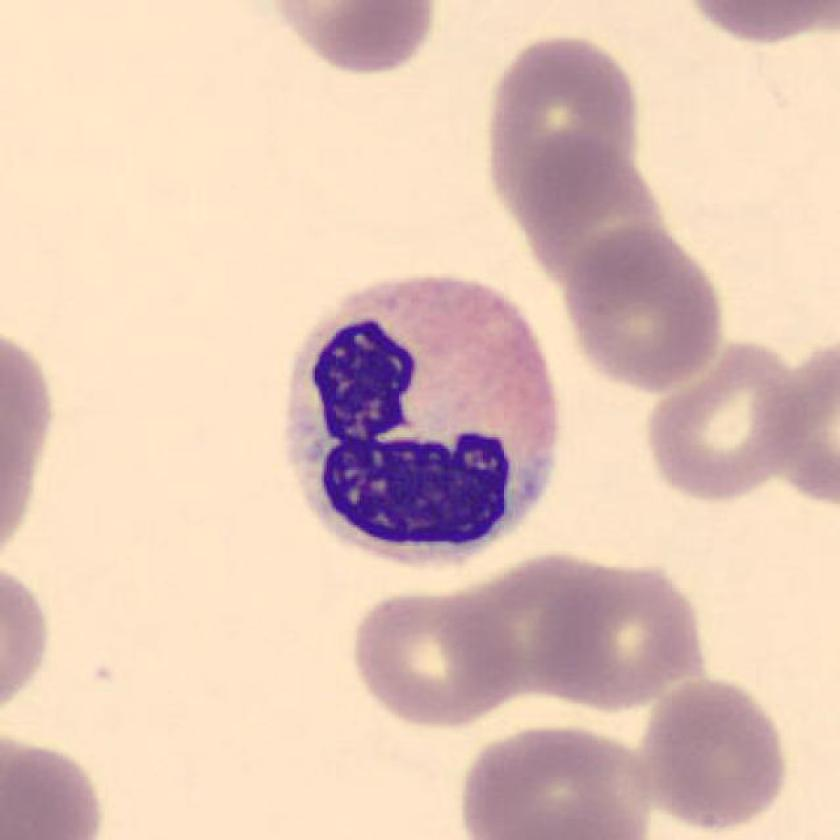neutrophil: (288, 281, 559, 562)
